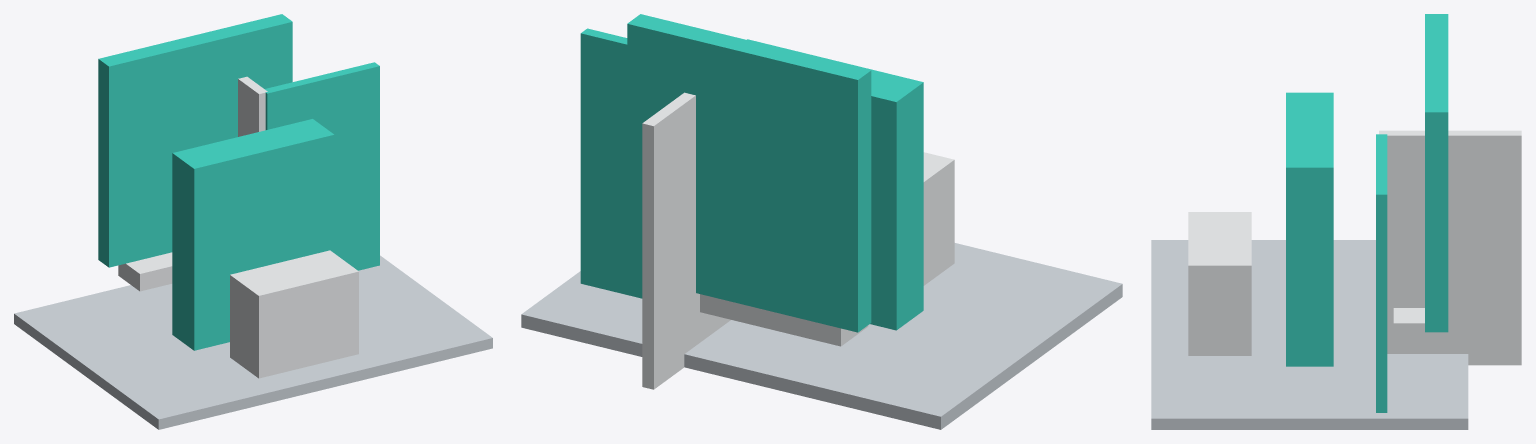
The picture shows the model from 3 angles, left to right: view 1: azimuth 30°, elevation 25°; view 2: azimuth 150°, elevation 25°; view 3: azimuth 270°, elevation 25°; orthographic projection. The views are drawn at different scales.
Parts seen in each view (by area): view 1: Exhibition Booth Concept; view 2: Exhibition Booth Concept; view 3: Exhibition Booth Concept.
Part boxes in pixels (x1,y1,x2,y2): Exhibition Booth Concept: (14, 14, 492, 429); Exhibition Booth Concept: (521, 14, 1122, 429); Exhibition Booth Concept: (1151, 14, 1521, 429).
Size of the model in its own units: 4 by 2.9 by 3.51.
